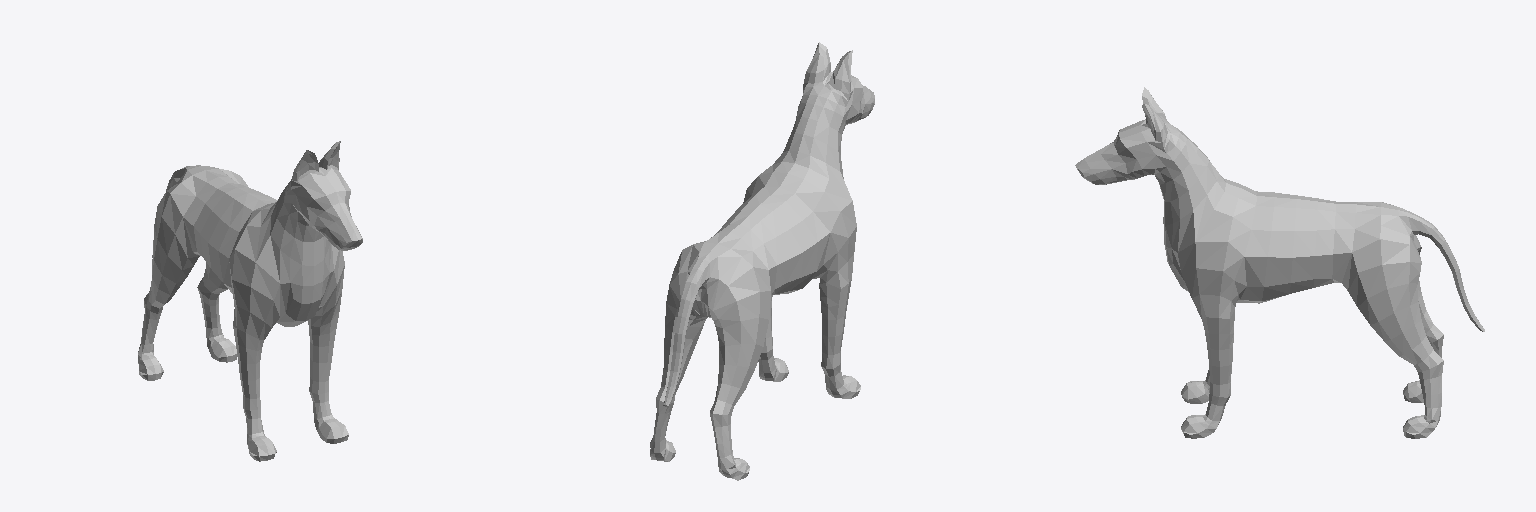
File: Dog_With_Tail_OBJ.obj
The picture shows the model from 3 angles: view 1: azimuth 30°, elevation 25°; view 2: azimuth 150°, elevation 25°; view 3: azimuth 270°, elevation 25°; orthographic projection.
Visible parts, largest first — view 1: Dog_With_Tail; view 2: Dog_With_Tail; view 3: Dog_With_Tail.
Boxes of the visible parts, <box> form: Dog_With_Tail: <box>138,141,362,461</box>; Dog_With_Tail: <box>650,42,874,480</box>; Dog_With_Tail: <box>1075,87,1484,438</box>.
Bounding box in the file's own units: 4.02 × 11.76 × 13.63.